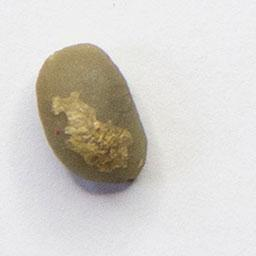peaberry: (32, 39, 153, 189)
